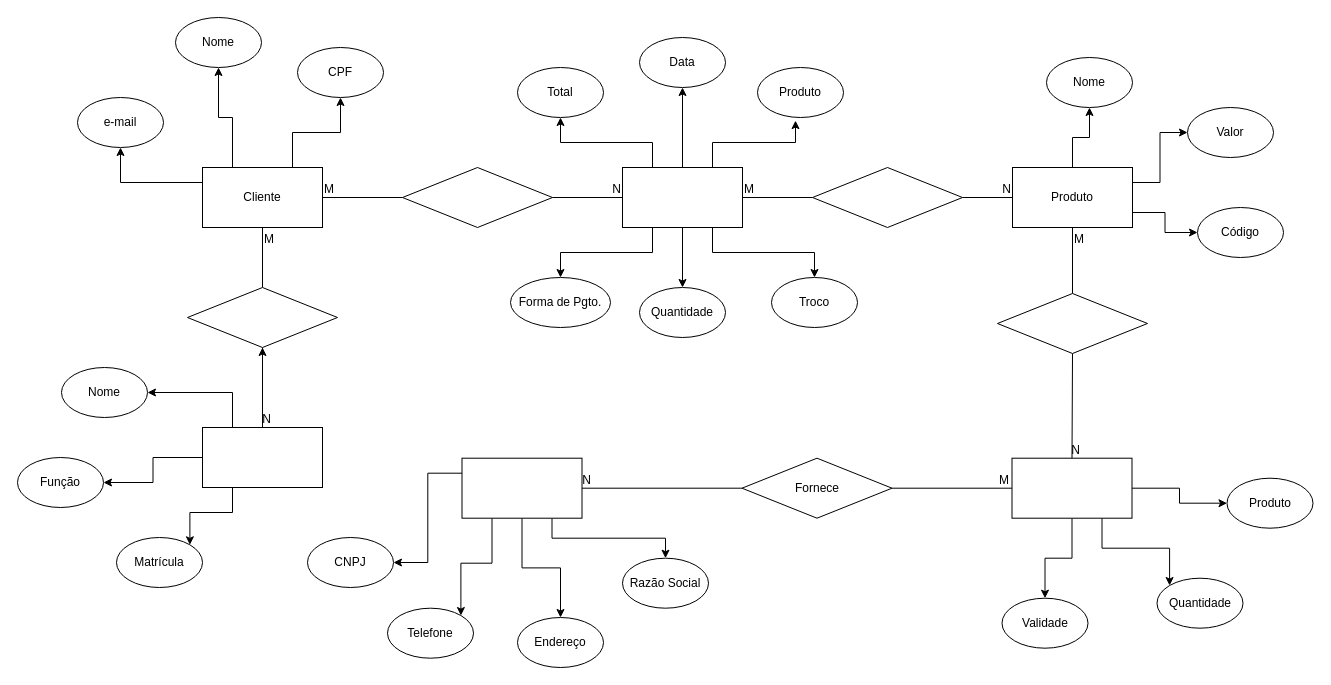
Some shapes in this 1331 by 685 pixel diagram are drawn without their labels. The shapes that lost their labels are listed below. From the top down, each one's centre as x and y in pixels, then its label:
At (x=477, y=197): "Compra".
At (x=682, y=197): "Caixa".
At (x=887, y=197): "Registra".
At (x=262, y=317): "Atende".
At (x=1072, y=323): "Sai".
At (x=262, y=457): "Funcionário".
At (x=521, y=487): "Fornecedor".
At (x=1071, y=487): "Estoque".
